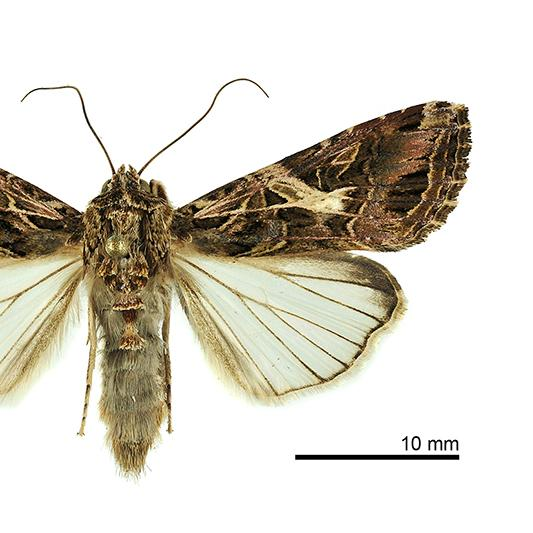Spodoptera litura: (1, 78, 474, 485)
